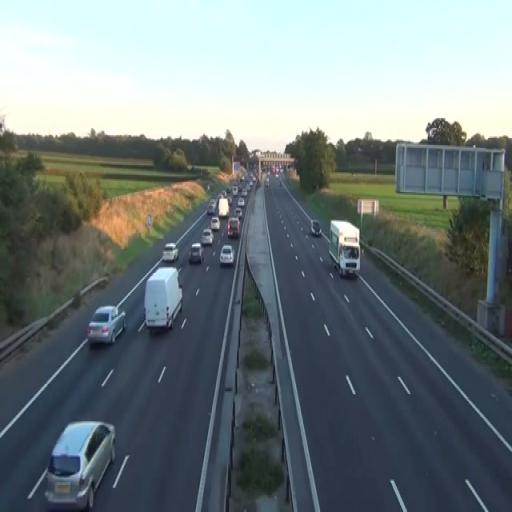Car: (45, 420, 116, 510), (86, 305, 126, 346), (162, 241, 180, 262), (189, 242, 205, 264), (220, 244, 234, 268), (227, 217, 241, 240), (202, 228, 213, 247), (310, 220, 322, 237), (210, 216, 220, 232)
Truck: (144, 265, 183, 331), (329, 220, 361, 278)
